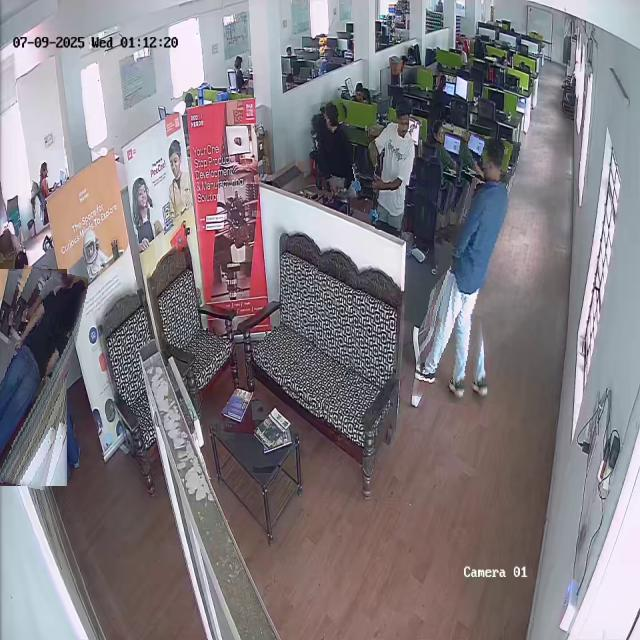person: (424, 133, 508, 404), (0, 266, 77, 488), (365, 96, 418, 232), (309, 100, 358, 202), (423, 117, 456, 179), (31, 161, 58, 205)
